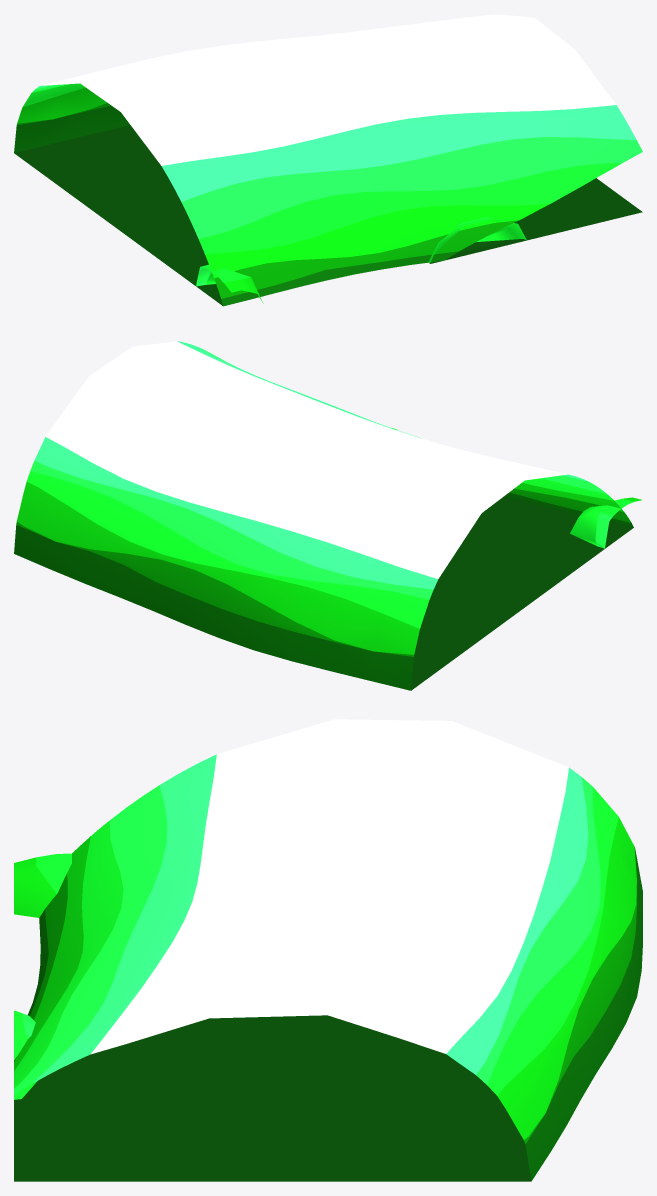
The model's file is shot_charge_b269.glb.
3 views of the same model, one above another, from view 1: azimuth 30°, elevation 25°; view 2: azimuth 150°, elevation 25°; view 3: azimuth 270°, elevation 25° (orthographic). The views are drawn at different scales.
Parts seen in each view (by area): view 1: charge_great_wave_shot_charge_b269, charge_great_drip2_shot_charge_b269, charge_great_drip0_shot_charge_b269; view 2: charge_great_wave_shot_charge_b269, charge_great_drip0_shot_charge_b269; view 3: charge_great_wave_shot_charge_b269, charge_great_drip0_shot_charge_b269, charge_great_drip2_shot_charge_b269.
Part boxes in pixels (x1,y1,x2,y2): charge_great_wave_shot_charge_b269: (14, 14, 642, 306); charge_great_drip2_shot_charge_b269: (429, 217, 526, 263); charge_great_drip0_shot_charge_b269: (196, 264, 263, 303); charge_great_wave_shot_charge_b269: (14, 341, 633, 690); charge_great_drip0_shot_charge_b269: (570, 497, 641, 548); charge_great_wave_shot_charge_b269: (14, 719, 642, 1181); charge_great_drip0_shot_charge_b269: (14, 853, 71, 917); charge_great_drip2_shot_charge_b269: (14, 1011, 37, 1099).
Size of the model in its own units: 12 by 3.33 by 11.
